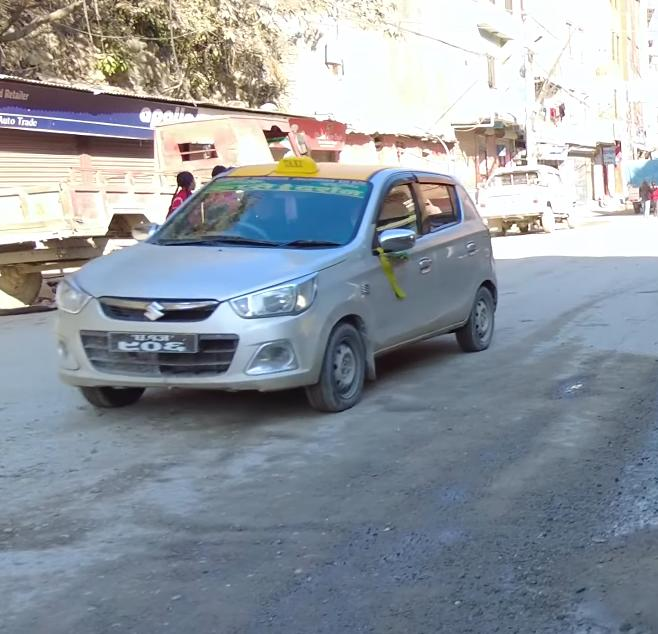taxi: (45, 145, 515, 427)
